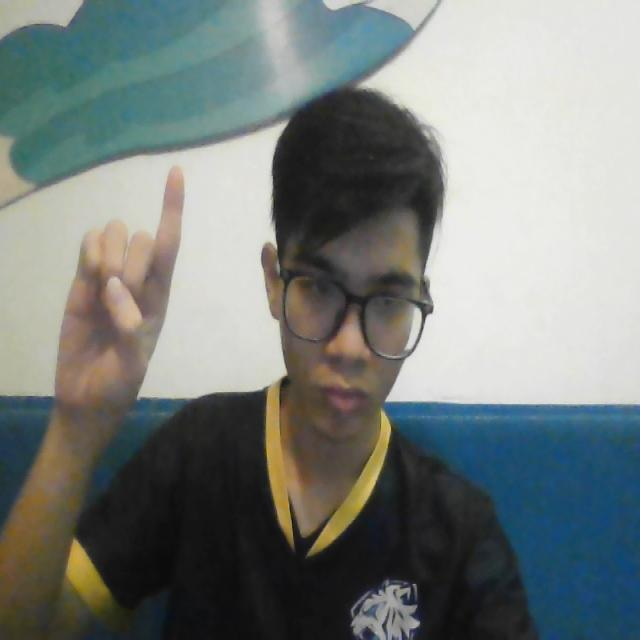D: (50, 157, 185, 420)
